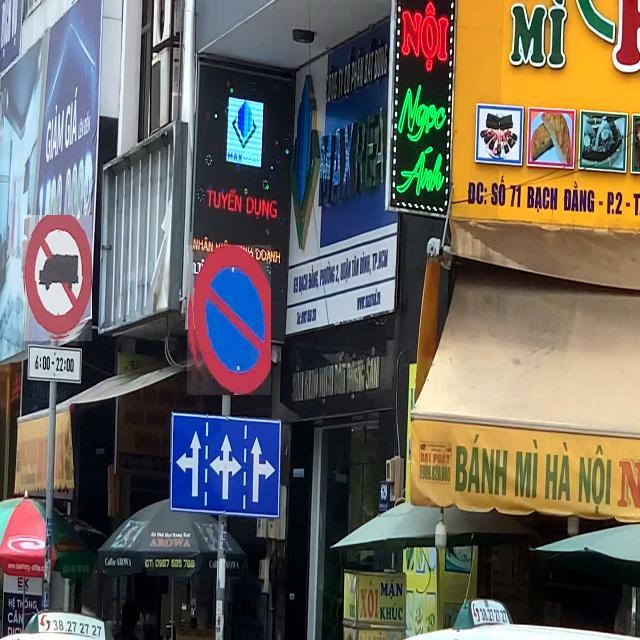P-106a: (23, 216, 92, 342)
P-131a: (187, 245, 271, 395)
